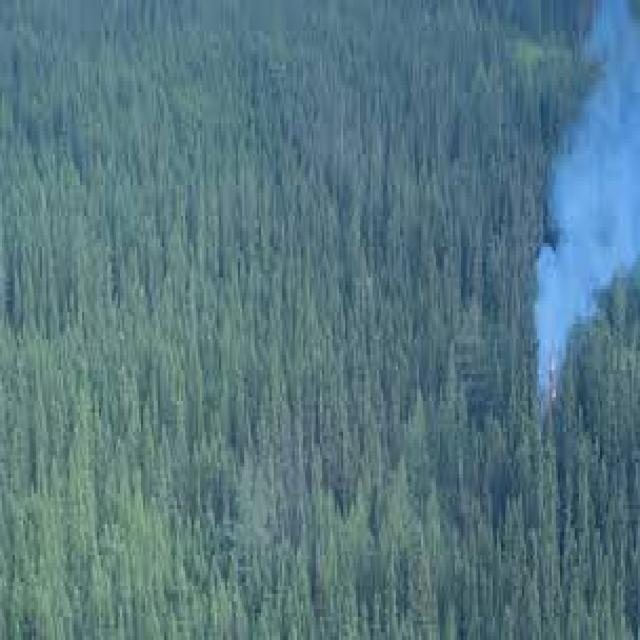Smoke: (513, 0, 640, 447)
